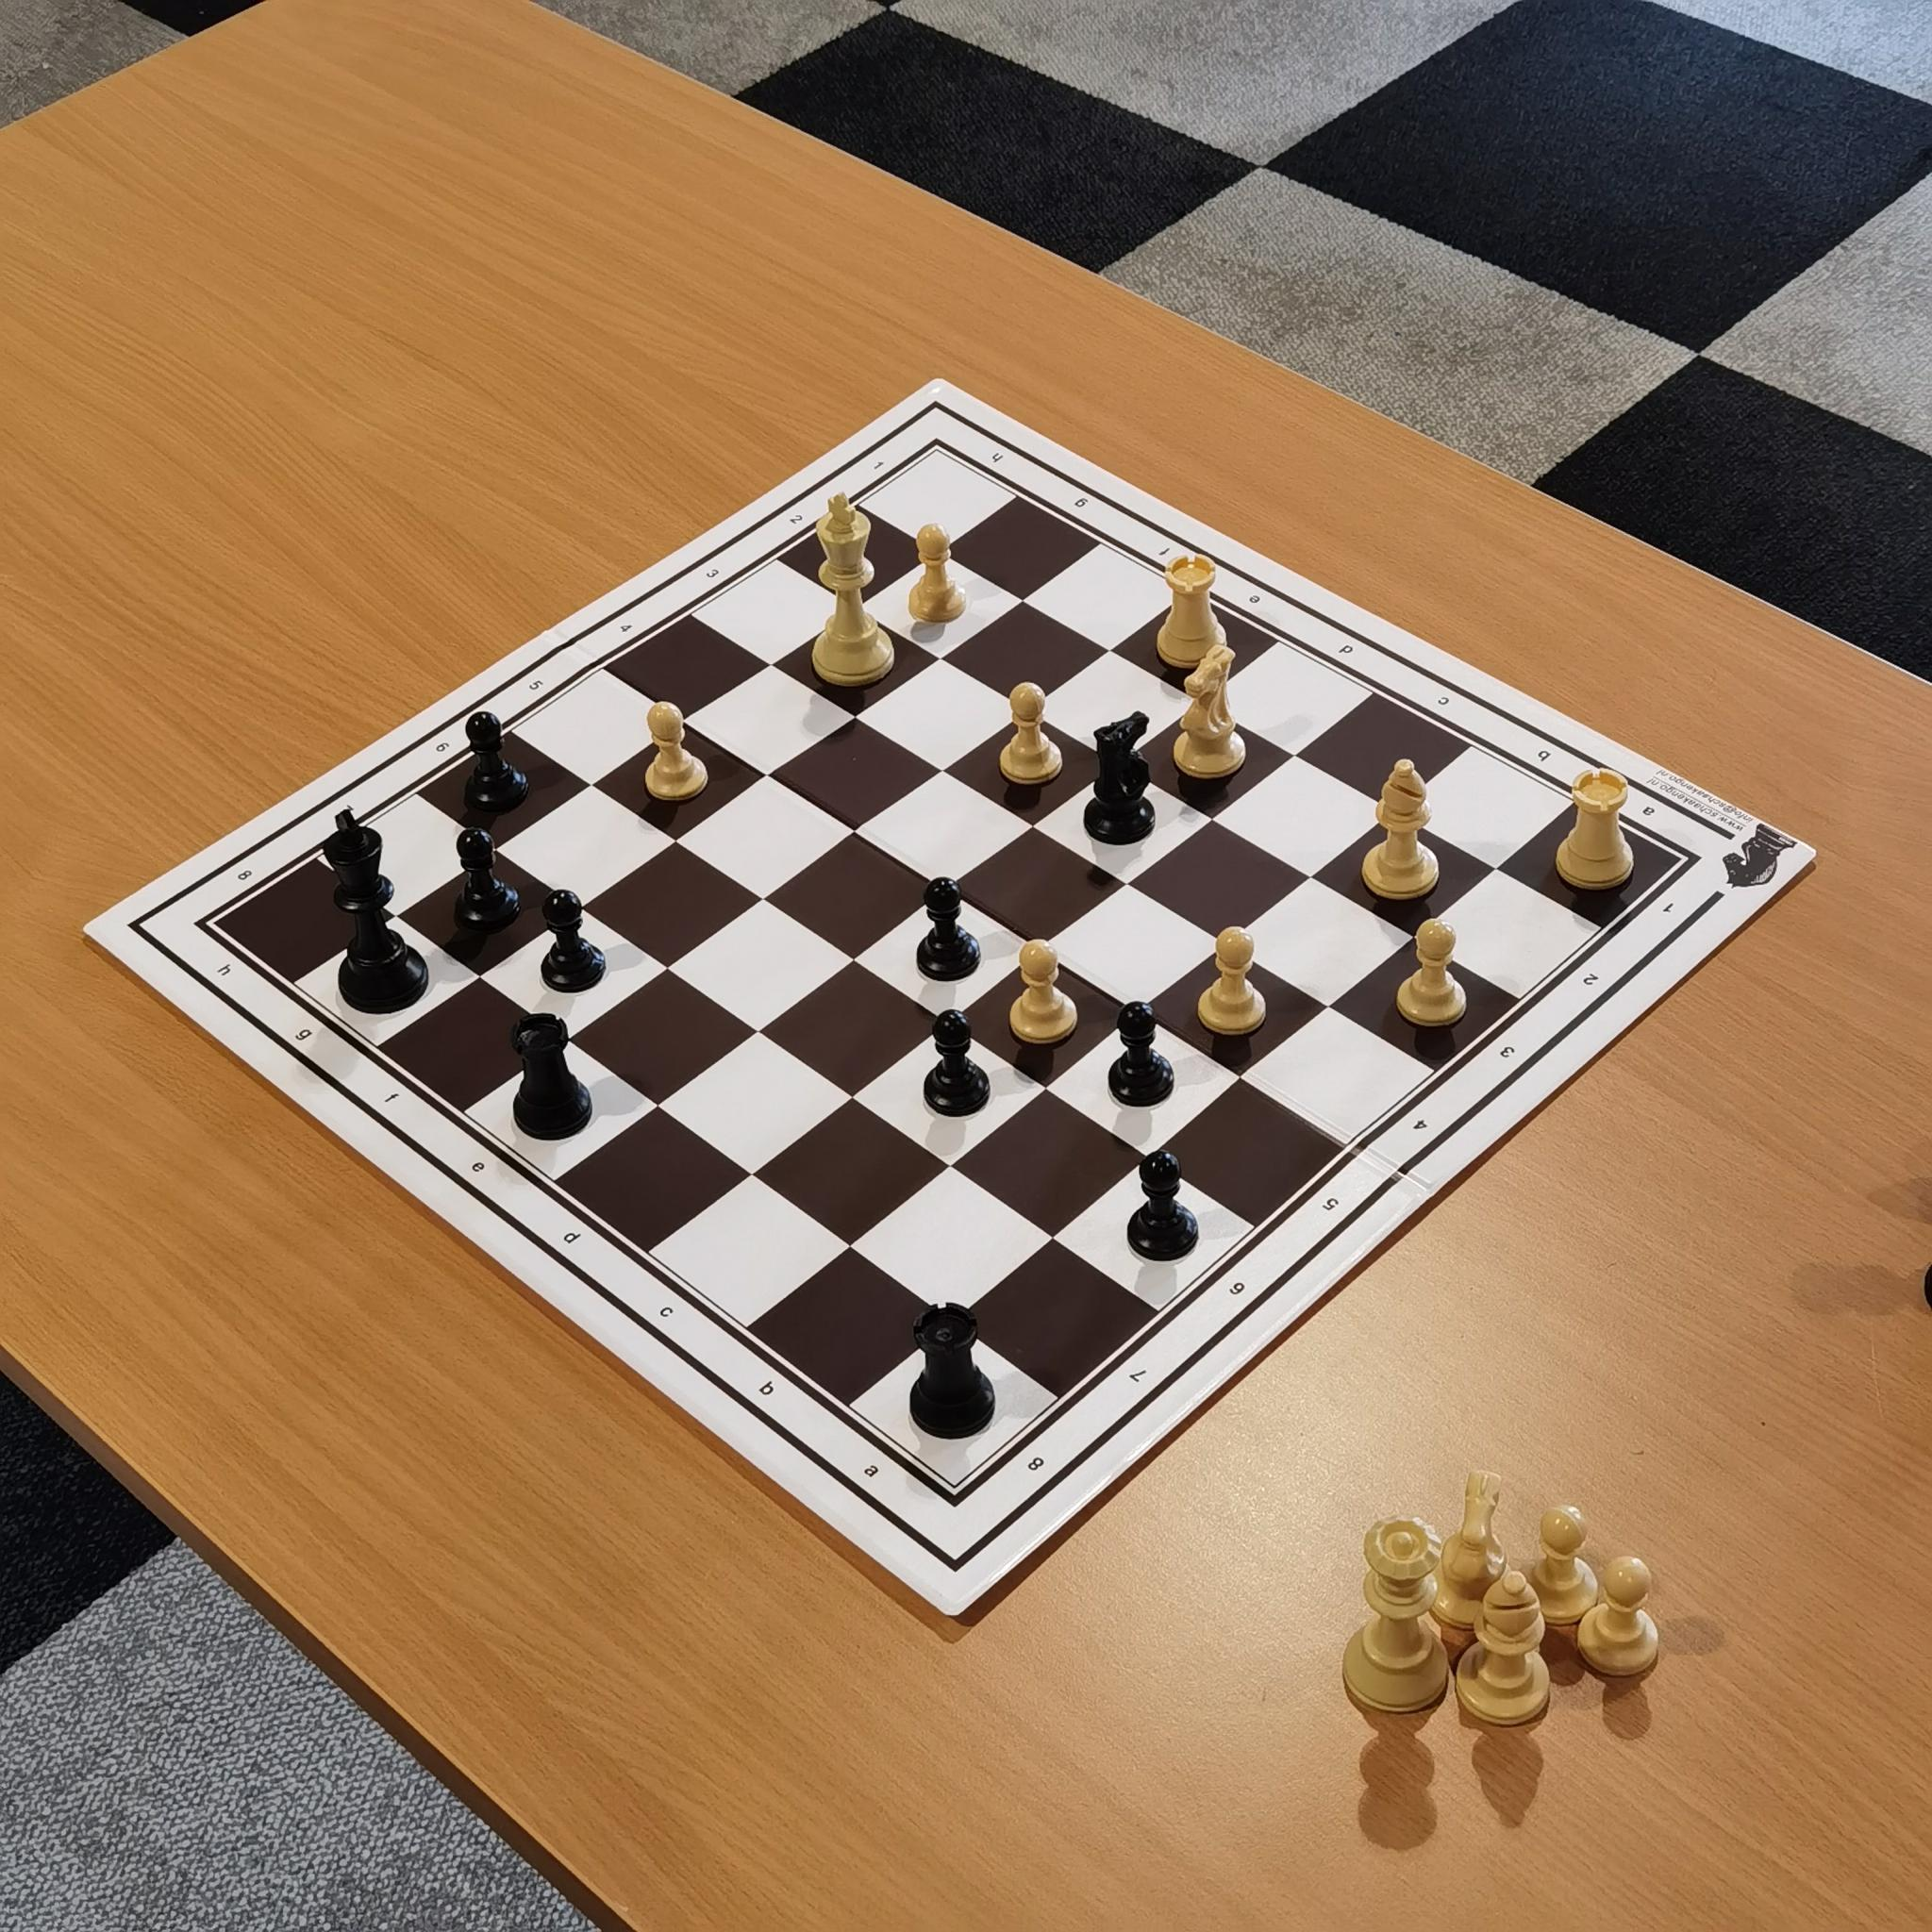corners: (929, 1465, 985, 1522), (1660, 839, 1718, 881), (180, 904, 239, 945), (915, 430, 961, 471)
eight: (1014, 1438, 1063, 1490), (228, 849, 264, 895)
one: (1651, 885, 1691, 927), (863, 446, 897, 481)
